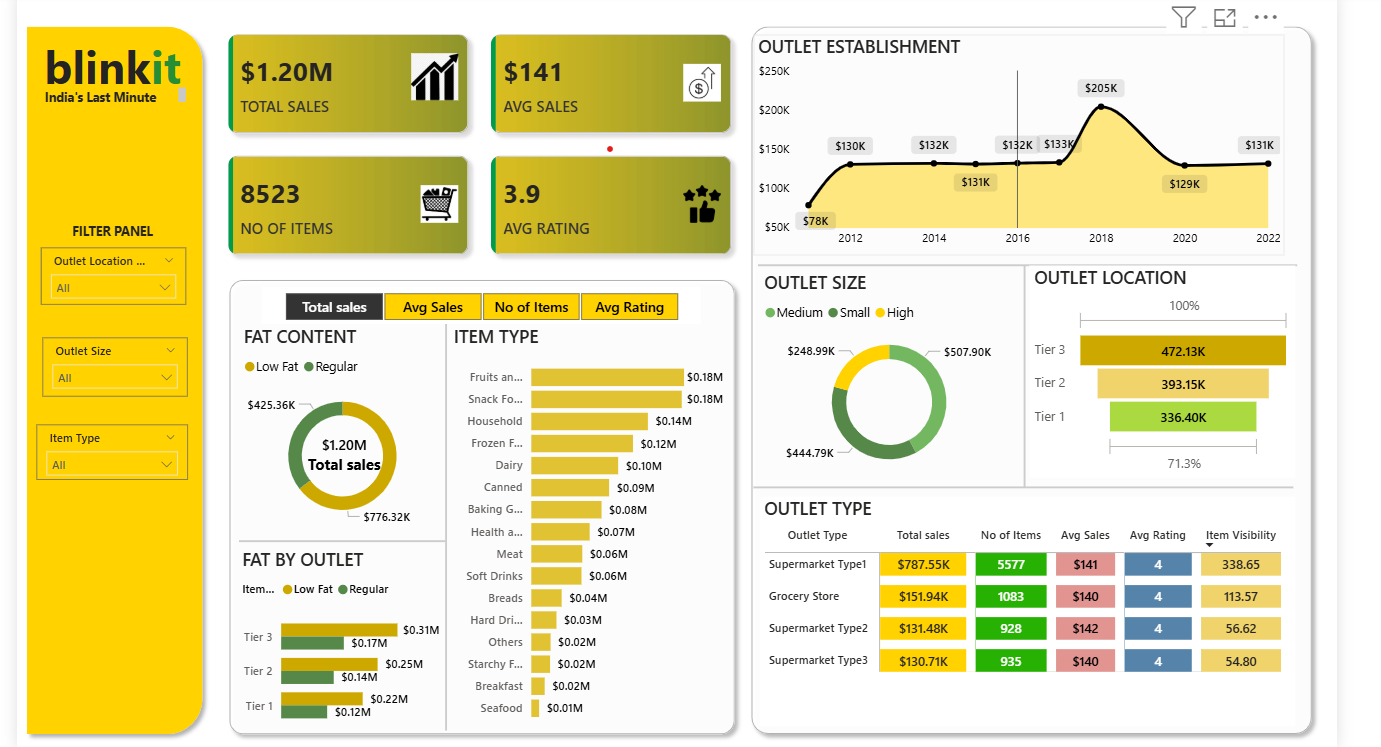

The dashboard page shown, as its layout file describes it:
{"tool":"powerbi","page":{"name":"Page 1","canvas":[1400,800],"ordinal":0},"visuals":[{"type":"shape","box":[2.1,25,204.2,768.8],"z":0},{"type":"textbox","box":[24,38,174,88],"z":1000},{"type":"textbox","box":[24.4,94.4,160,31.1],"z":2000},{"type":"cardVisual","fields":{"Data":["BlinkIT Grocery Data.Total sales","BlinkIT Grocery Data.Avg Sales","BlinkIT Grocery Data.No of Items","BlinkIT Grocery Data.Avg Rating"]},"box":[206.2,25,568.8,268.8],"z":3000},{"type":"shape","box":[216,294,554,500],"z":4000},{"type":"slicer","title":" FAT CONTENT","fields":{"Values":["BlinkIT Grocery Data.Outlet Location Type"]},"box":[25,268.8,154.2,60.4],"z":5000},{"type":"slicer","fields":{"Values":["Metrics.Metrics"]},"box":[260,310,466,40],"z":6000},{"type":"cardVisual","fields":{"Data":["BlinkIT Grocery Data.Total sales"]},"box":[272.9,450,150,72.9],"z":7000},{"type":"clusteredBarChart","title":"FAT BY OUTLET","fields":{"Y":["BlinkIT Grocery Data.Total sales"],"Category":["BlinkIT Grocery Data.Outlet Location Type"],"Series":["BlinkIT Grocery Data.Item Fat Content"]},"box":[234,587.2,219.1,202.1],"z":8000},{"type":"shape","box":[437,350,35.2,431.5],"z":9000},{"type":"shape","box":[236,575,219,12],"z":10000},{"type":"barChart","title":"ITEM TYPE","fields":{"Y":["BlinkIT Grocery Data.Total sales"],"Category":["BlinkIT Grocery Data.Item Type"]},"box":[458.3,350,295.8,431.2],"z":11000},{"type":"shape","box":[770.8,25,612.5,768.8],"z":12000},{"type":"lineChart","title":"OUTLET ESTABLISHMENT","fields":{"Y":["BlinkIT Grocery Data.Total sales"],"Category":["BlinkIT Grocery Data.Outlet Establishment Year"]},"box":[780.9,42.6,563.8,234],"z":13000},{"type":"shape","box":[785.6,281.1,572.2,12.2],"z":14000},{"type":"donutChart","title":"OUTLET SIZE","fields":{"Y":["BlinkIT Grocery Data.Total sales"],"Category":["BlinkIT Grocery Data.Outlet Size"]},"box":[787.2,293.6,274.5,225.5],"z":15000},{"type":"shape","box":[1060.8,287.5,15,235.8],"z":16000},{"type":"funnel","title":"OUTLET LOCATION","fields":{"Y":["Sum(BlinkIT Grocery Data.Sales)"],"Category":["BlinkIT Grocery Data.Outlet Location Type"]},"box":[1075,288.6,281.8,225],"z":17000},{"type":"shape","box":[781.2,516.7,572.9,12.5],"z":18000},{"type":"pivotTable","title":"OUTLET TYPE","fields":{"Rows":["BlinkIT Grocery Data.Outlet Type"],"Values":["BlinkIT Grocery Data.Total sales","BlinkIT Grocery Data.No of Items","BlinkIT Grocery Data.Avg Sales","BlinkIT Grocery Data.Avg Rating","Sum(BlinkIT Grocery Data.Item Visibility)"]},"box":[787.5,533.3,568.8,243.8],"z":19000},{"type":"slicer","title":" FAT CONTENT","fields":{"Values":["BlinkIT Grocery Data.Outlet Size"]},"box":[27.1,364.6,154.2,62.5],"z":20000},{"type":"slicer","title":" FAT CONTENT","fields":{"Values":["BlinkIT Grocery Data.Item Type"]},"box":[20.8,456.2,160.4,58.3],"z":21000},{"type":"donutChart","title":"FAT CONTENT","fields":{"Y":["BlinkIT Grocery Data.Total sales"],"Category":["BlinkIT Grocery Data.Item Fat Content"]},"box":[235.4,350,218.8,225],"z":22000},{"type":"textbox","box":[22.9,237.5,158.3,31.2],"z":23000}]}

Visuals, with their boxes on the page's 1400x800 design canvas (x1, y1, x2, y2). These are canvas units, not pixel positions in the 1381x747 screenshot, which may show the page scaled, cropped or inside an application window:
shape: x1=2, y1=25, x2=206, y2=794
textbox: x1=24, y1=38, x2=198, y2=126
textbox: x1=24, y1=94, x2=184, y2=126
cardVisual - BlinkIT Grocery Data.Total sales x BlinkIT Grocery Data.Avg Sales: x1=206, y1=25, x2=775, y2=294
shape: x1=216, y1=294, x2=770, y2=794
" FAT CONTENT" slicer: x1=25, y1=269, x2=179, y2=329
slicer - Metrics.Metrics: x1=260, y1=310, x2=726, y2=350
cardVisual - BlinkIT Grocery Data.Total sales: x1=273, y1=450, x2=423, y2=523
"FAT BY OUTLET" clusteredBarChart: x1=234, y1=587, x2=453, y2=789
shape: x1=437, y1=350, x2=472, y2=782
shape: x1=236, y1=575, x2=455, y2=587
"ITEM TYPE" barChart: x1=458, y1=350, x2=754, y2=781
shape: x1=771, y1=25, x2=1383, y2=794
"OUTLET ESTABLISHMENT" lineChart: x1=781, y1=43, x2=1345, y2=277
shape: x1=786, y1=281, x2=1358, y2=293
"OUTLET SIZE" donutChart: x1=787, y1=294, x2=1062, y2=519
shape: x1=1061, y1=288, x2=1076, y2=523
"OUTLET LOCATION" funnel: x1=1075, y1=289, x2=1357, y2=514
shape: x1=781, y1=517, x2=1354, y2=529
"OUTLET TYPE" pivotTable: x1=788, y1=533, x2=1356, y2=777
" FAT CONTENT" slicer: x1=27, y1=365, x2=181, y2=427
" FAT CONTENT" slicer: x1=21, y1=456, x2=181, y2=514
"FAT CONTENT" donutChart: x1=235, y1=350, x2=454, y2=575
textbox: x1=23, y1=238, x2=181, y2=269
